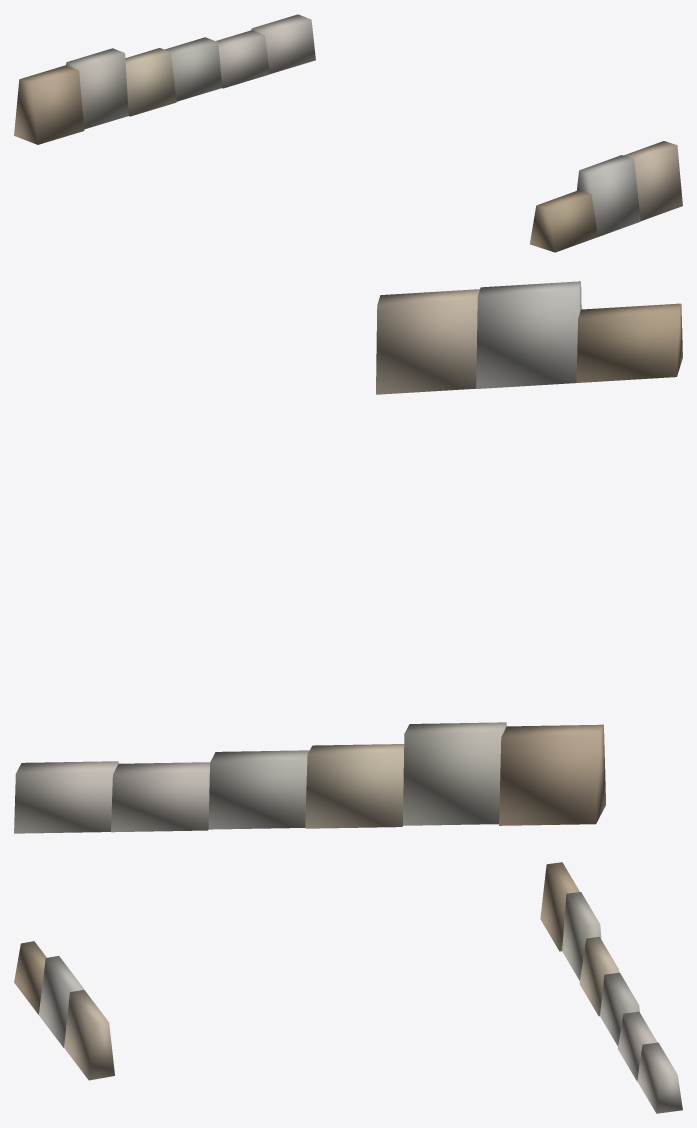
The model's file is farm_-34_-29_collision.glb.
3 renders of one model, top to bottom at view 1: azimuth 30°, elevation 25°; view 2: azimuth 150°, elevation 25°; view 3: azimuth 270°, elevation 25°, orthographic. The views are drawn at different scales.
Visible parts, largest first — view 1: geometry_0; view 2: geometry_0; view 3: geometry_0.
Boxes of the visible parts, x1,y1,x2,y2 form: geometry_0: (14, 14, 682, 252); geometry_0: (14, 281, 682, 833); geometry_0: (14, 862, 682, 1113).
Size of the model in its own units: 10.75 by 3.56 by 16.52.
